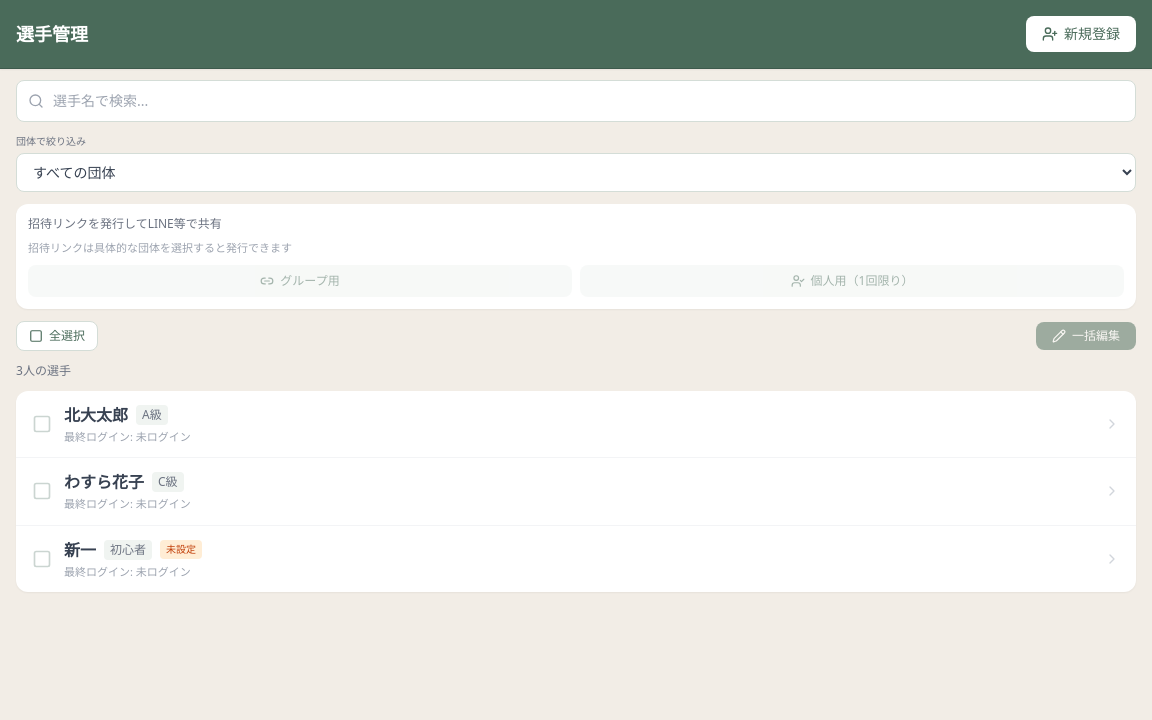
Test: PlayerList - 選択UI・団体フィルタ・一括編集導線 › 招待ボタンは「すべて」では無効、具体的な団体選択で有効になる
Check: the text "新一" is shown, box [64, 538, 96, 562]
Check: the button "グループ用" is disabled, box [28, 264, 572, 296]
Note: 具体的団体を選択 → 有効
Select "北海道大学かるた会" in the dropdown named "団体で絞り込み": (576, 172) [16, 153, 1136, 192]
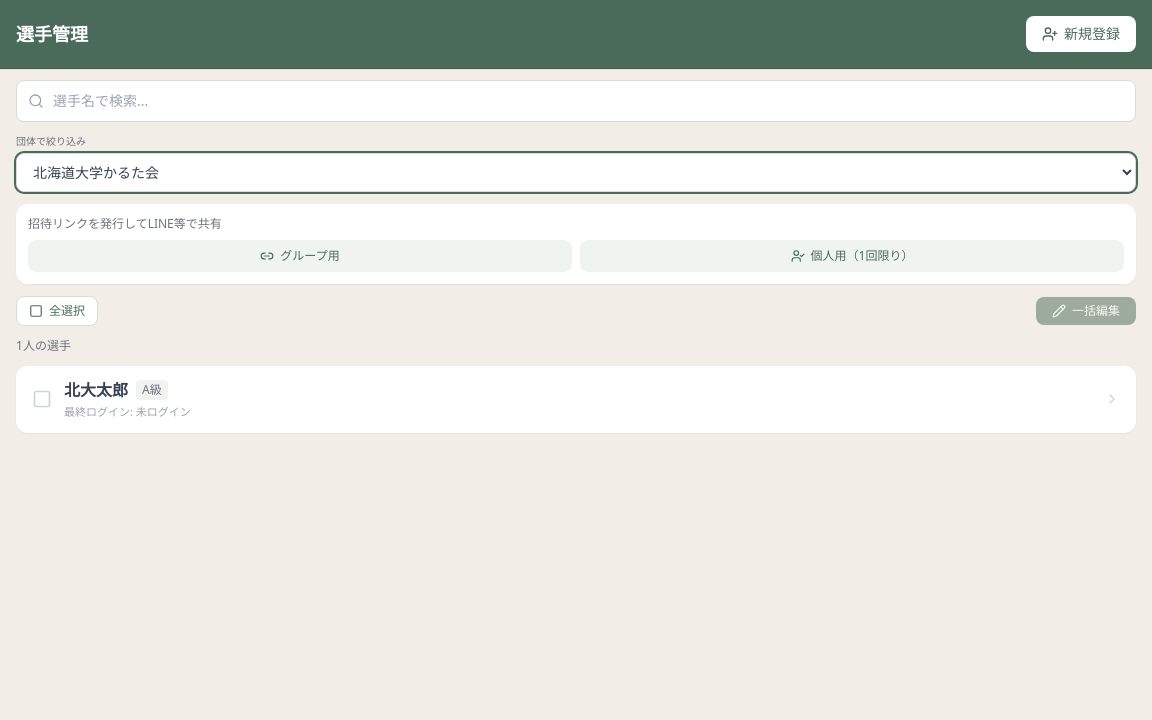
Check: the button "グループ用" is enabled, box [28, 240, 572, 272]
